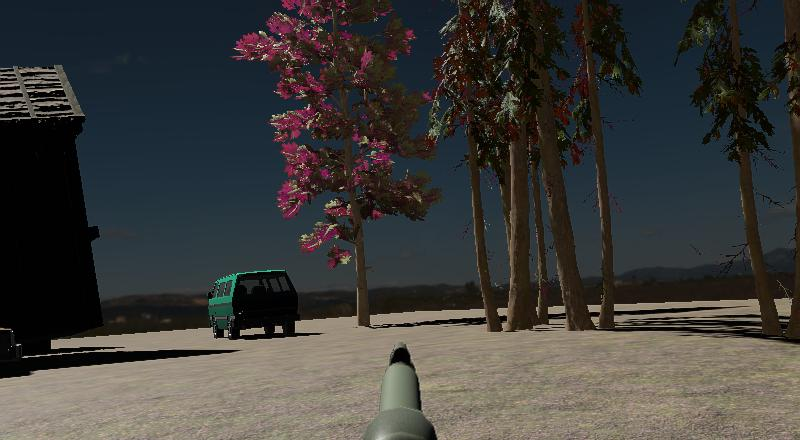House: (0, 57, 107, 355)
car: (207, 267, 301, 339), (0, 294, 25, 378), (0, 297, 25, 380)
